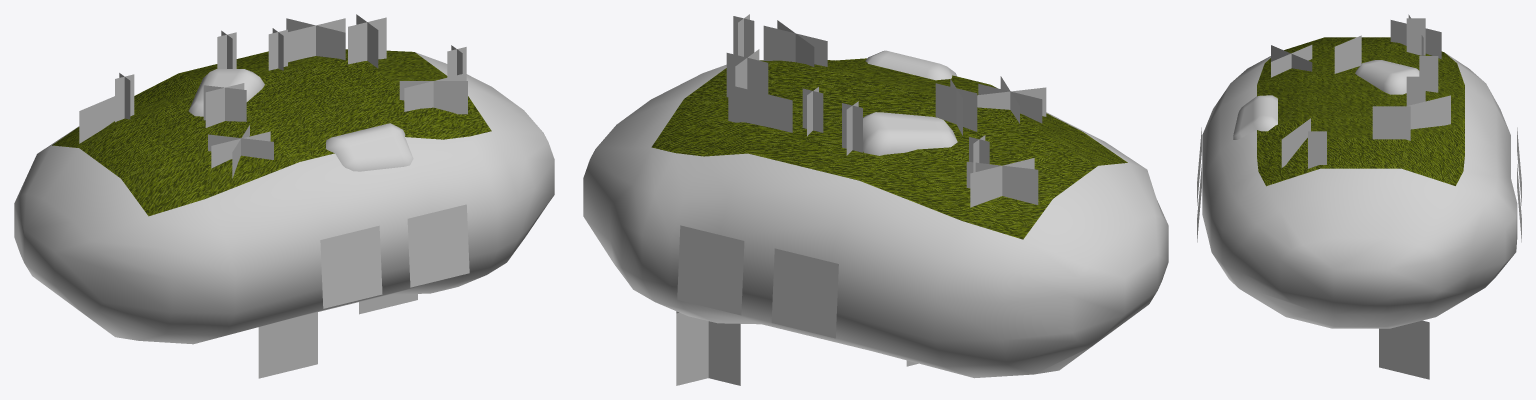
The model's file is platform2_floating_island2.fbx.
The picture shows the model from 3 angles, left to right: view 1: azimuth 30°, elevation 25°; view 2: azimuth 150°, elevation 25°; view 3: azimuth 270°, elevation 25°; orthographic projection. The views are drawn at different scales.
Visible parts, largest first — view 1: Mesh; view 2: Mesh; view 3: Mesh.
Part boxes in pixels (bbox=[...]): Mesh: bbox=[14, 14, 554, 378]; Mesh: bbox=[583, 14, 1168, 385]; Mesh: bbox=[1197, 14, 1521, 379].
Size of the model in its own units: 1030 by 601 by 692.
